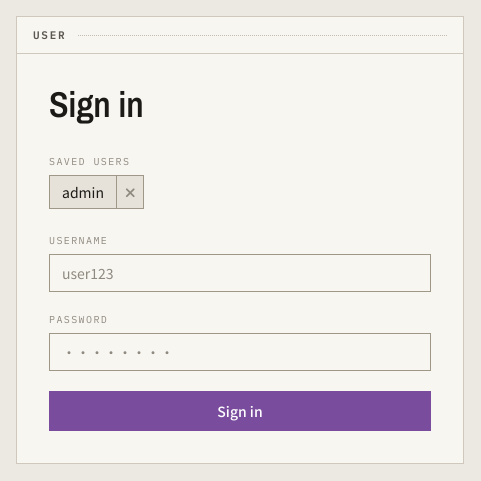
Test case: Login - saved users › drops the whole row once the last saved username is removed
The image size is (481, 481).
Click the button named "remove admin" at (130, 192), box [116,176,143,208]
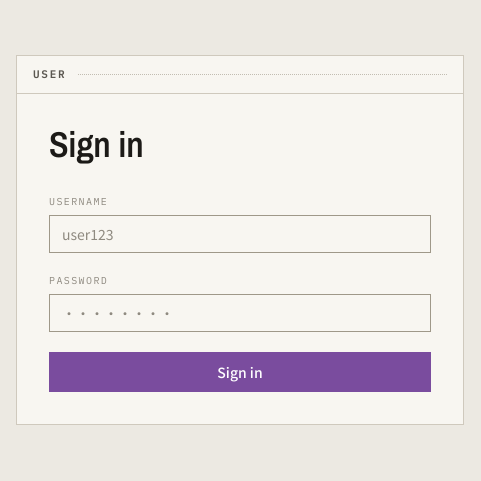
Check: the text "Saved users" is gone
